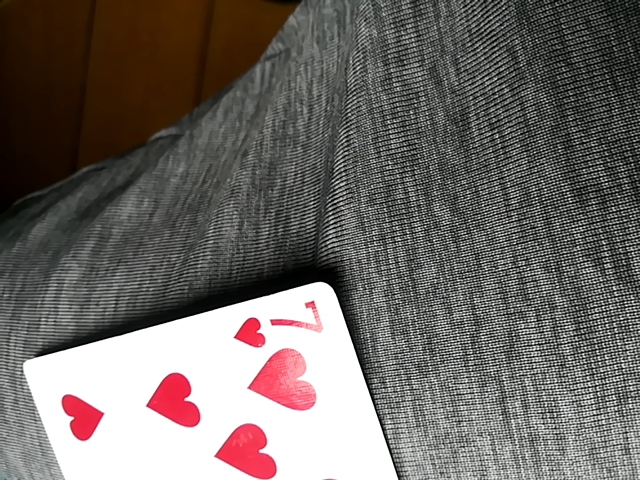hx 7: (20, 280, 397, 478)
